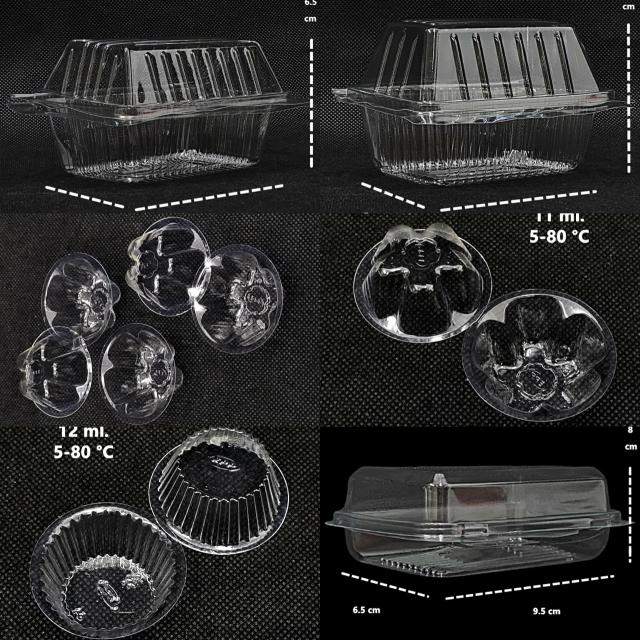Single-Use-Plastic: (334, 20, 625, 184), (8, 39, 306, 182), (327, 466, 627, 578), (30, 504, 186, 638), (462, 290, 617, 421), (149, 428, 289, 555), (354, 222, 492, 342), (193, 245, 283, 354), (100, 324, 183, 424), (126, 218, 209, 316), (41, 252, 120, 345), (18, 328, 93, 418)
